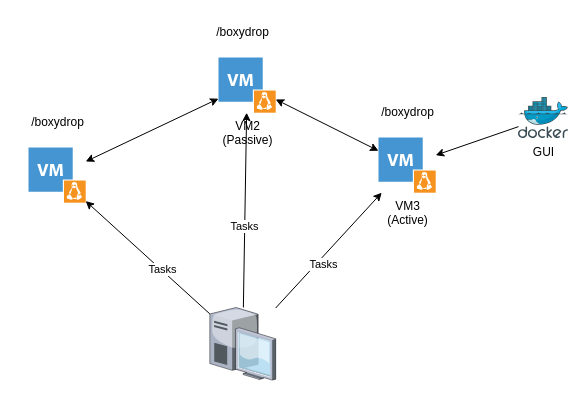
Image size: 586x418. Some labels were removed from this diagram. Here are the shapes that lost their labels. From the top down, the centre of each, then its label:
the point at 56,174: VM1 (Active)
the point at 242,343: Ansible controller
